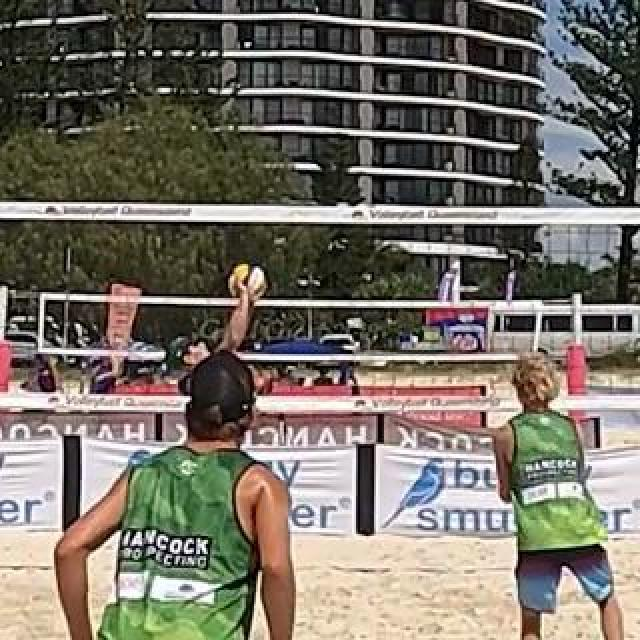volleyball: (229, 261, 267, 295)
